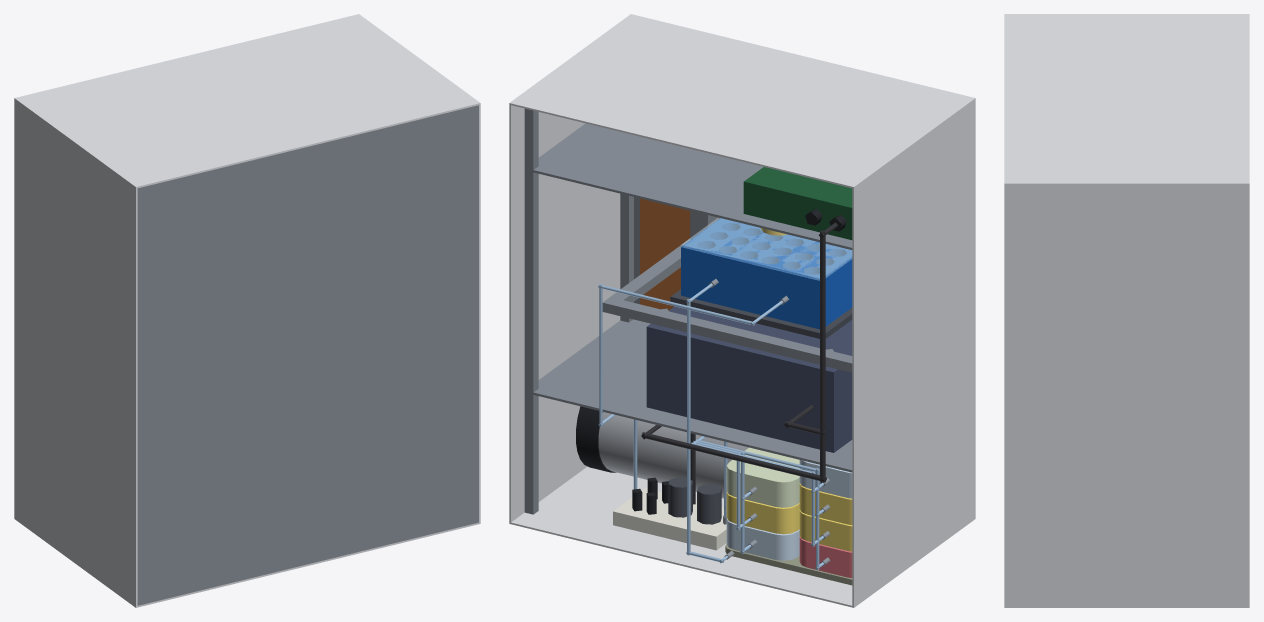
File: MOD-tumour-spheroids.glb
The picture shows the model from 3 angles, left to right: view 1: azimuth 30°, elevation 25°; view 2: azimuth 150°, elevation 25°; view 3: azimuth 270°, elevation 25°; orthographic projection.
Parts seen in each view (by area): view 1: housing__back_panel_bay_interface, housing__side_panel_L, housing__top_panel, housing__bottom_panel, housing__side_panel_R; view 2: housing__side_panel_L, housing__top_panel, housing__side_panel_R, imaging__microscope_base_optics_filter_cubes_camera, housing__shelf_2, sample__cassette_24_wells_SBS_footprint_19_3_mm_pitch, housing__bottom_panel, housing__shelf_1, housing__corner_post_4, sample__m80_C_passive_cryo_cassette_vacuum_insulated_body, imaging__XY_stage_frame_travel_96_5_x_57_9_mm_every_well_ove, sample__cassette_lid_sealed_and_gas_permeable (+20 smaller); view 3: housing__side_panel_R, housing__top_panel, housing__bottom_panel.
Boxes of the visible parts, x1,y1,x2,y2 form: housing__back_panel_bay_interface: (137, 105, 478, 605); housing__side_panel_L: (14, 100, 137, 605); housing__top_panel: (14, 14, 480, 188); housing__bottom_panel: (14, 517, 480, 607); housing__side_panel_R: (479, 105, 480, 522); housing__side_panel_L: (852, 100, 975, 605); housing__top_panel: (509, 14, 975, 188); housing__side_panel_R: (509, 105, 620, 522); imaging__microscope_base_optics_filter_cubes_camera: (646, 306, 852, 452); housing__shelf_2: (524, 123, 852, 249); sample__cassette_24_wells_SBS_footprint_19_3_mm_pitch: (681, 218, 852, 329); housing__bottom_panel: (509, 466, 975, 607); housing__shelf_1: (524, 319, 852, 472); housing__corner_post_4: (524, 108, 538, 514); sample__m80_C_passive_cryo_cassette_vacuum_insulated_body: (598, 412, 748, 498); imaging__XY_stage_frame_travel_96_5_x_57_9_mm_every_well_ove: (602, 239, 852, 372); sample__cassette_lid_sealed_and_gas_permeable: (681, 217, 852, 280); housing__side_panel_R: (1004, 185, 1249, 606); housing__top_panel: (1004, 14, 1249, 185); housing__bottom_panel: (1004, 606, 1249, 607).
Bounding box in the file's own units: 0.313 × 0.3652 × 0.1913.
